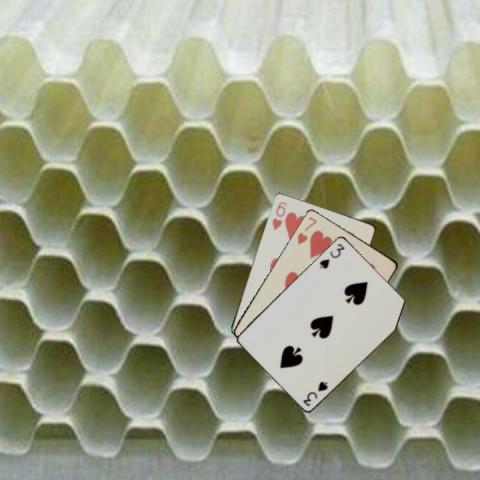3s: (317, 240, 346, 270), (300, 378, 329, 407)
6h: (269, 198, 288, 231)
7h: (294, 213, 318, 246)
